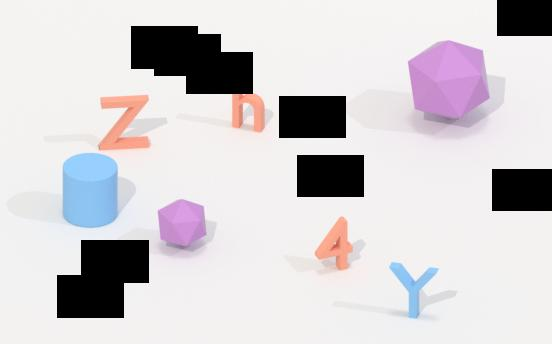4: (313, 213, 357, 271)
Y-hoa: (387, 257, 443, 320)
dagiac: (404, 39, 495, 120), (155, 199, 213, 248)
h: (226, 71, 273, 136)
tru: (59, 151, 122, 231)
z: (95, 93, 153, 150)
